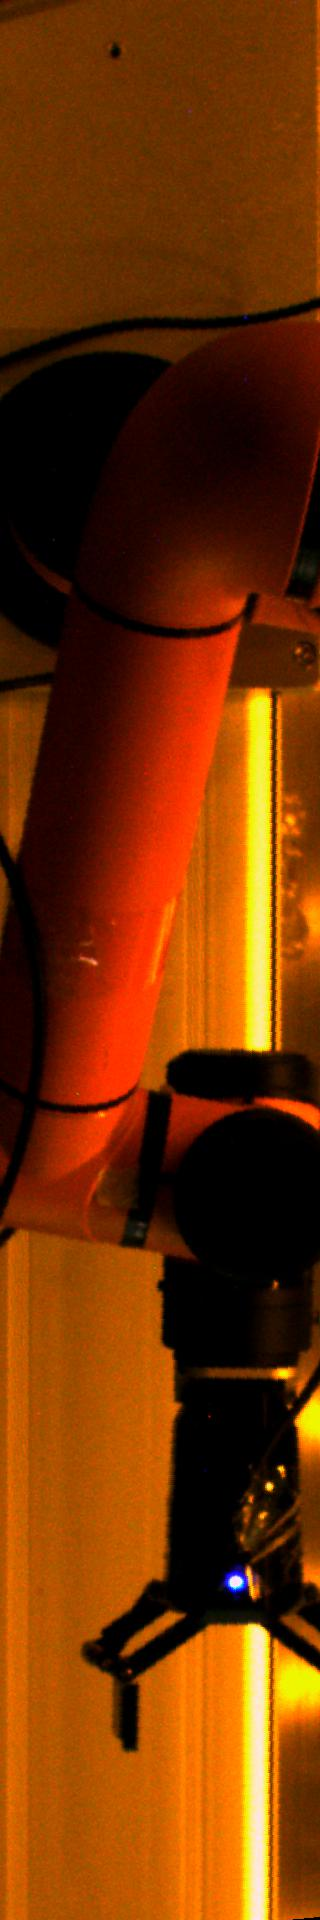keyPoint_1: (221, 1562, 251, 1593)
keyPoint_2: (101, 36, 130, 66)
